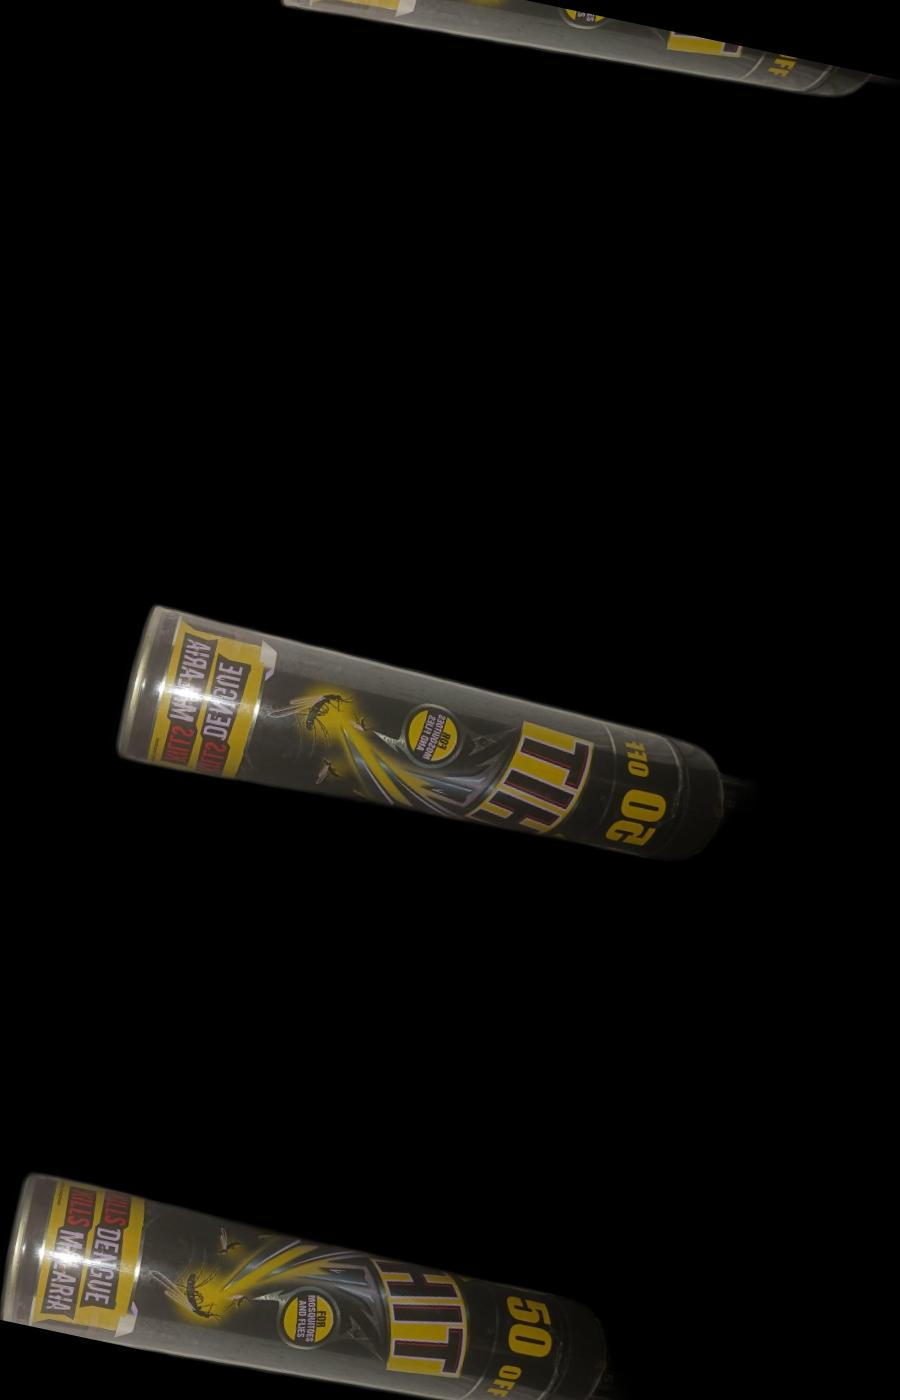HIT Mosquito - Fly Killer Spray700 ml: (84, 590, 791, 919), (0, 1142, 673, 1400), (247, 0, 900, 150)
